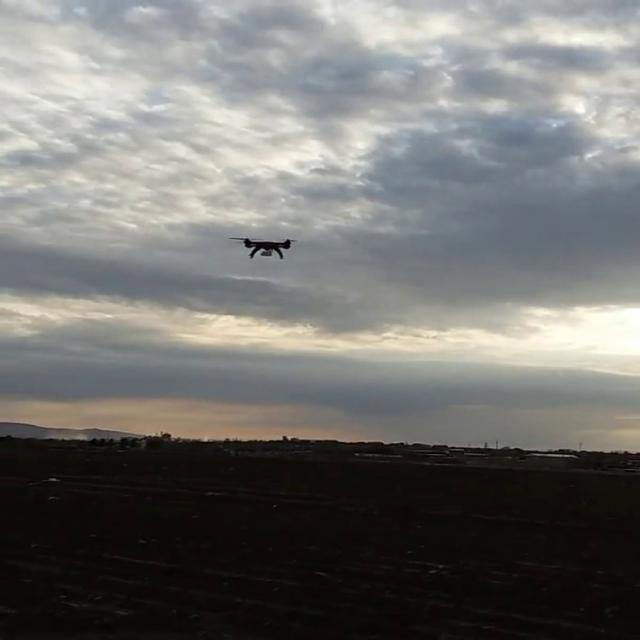drone: (227, 234, 301, 261)
